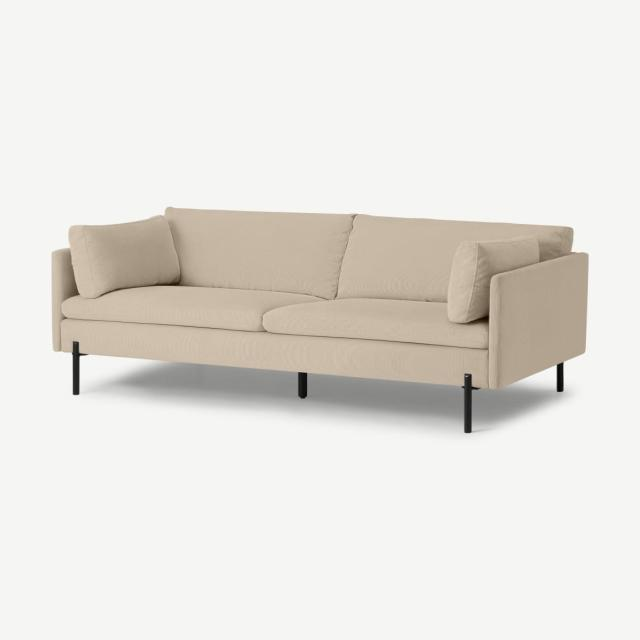Soffa: (38, 197, 598, 440)
